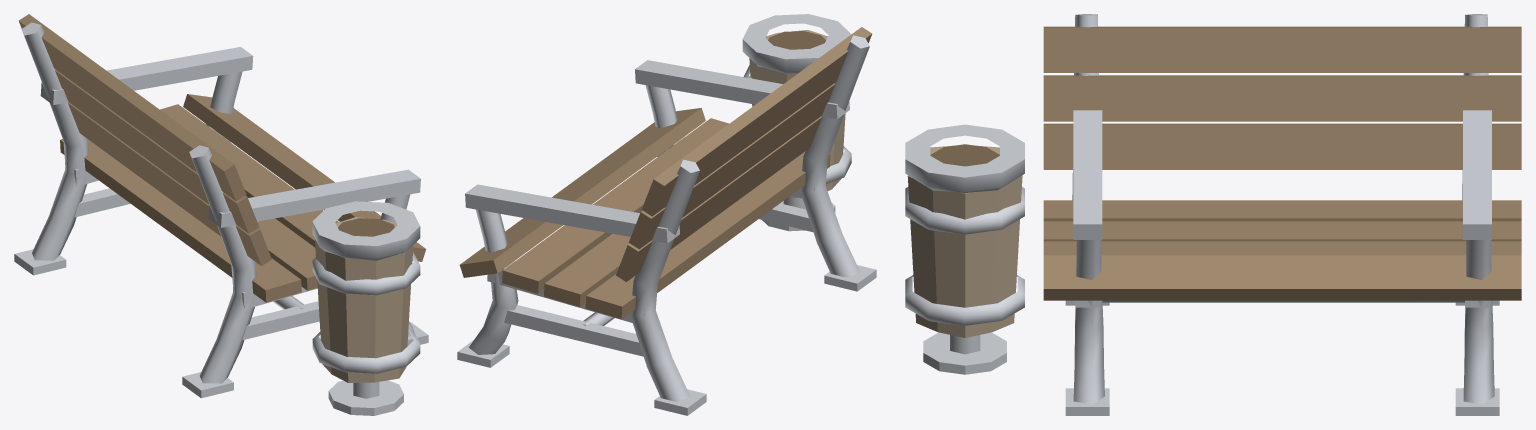
File: building.bench.glb
The picture shows the model from 3 angles, left to right: view 1: azimuth 30°, elevation 25°; view 2: azimuth 150°, elevation 25°; view 3: azimuth 270°, elevation 25°; orthographic projection. The views are drawn at different scales.
Parts seen in each view (by area): view 1: Metal, Wood, PaintDark, Door; view 2: Wood, Metal, PaintDark, Door; view 3: Wood, Metal, PaintDark, Door.
Boxes of the visible parts, bbox=[...] form: Metal: bbox=[14, 22, 428, 415]; Wood: bbox=[19, 14, 426, 302]; PaintDark: bbox=[315, 217, 413, 382]; Door: bbox=[338, 218, 394, 236]; Wood: bbox=[459, 27, 872, 319]; Metal: bbox=[457, 14, 876, 415]; PaintDark: bbox=[749, 30, 845, 197]; Door: bbox=[768, 31, 825, 49]; Wood: bbox=[1043, 26, 1521, 300]; Metal: bbox=[905, 14, 1499, 415]; PaintDark: bbox=[907, 145, 1022, 337]; Door: bbox=[930, 144, 999, 166].
Bounding box in the file's own units: 0.4877 × 0.492 × 0.9801.
